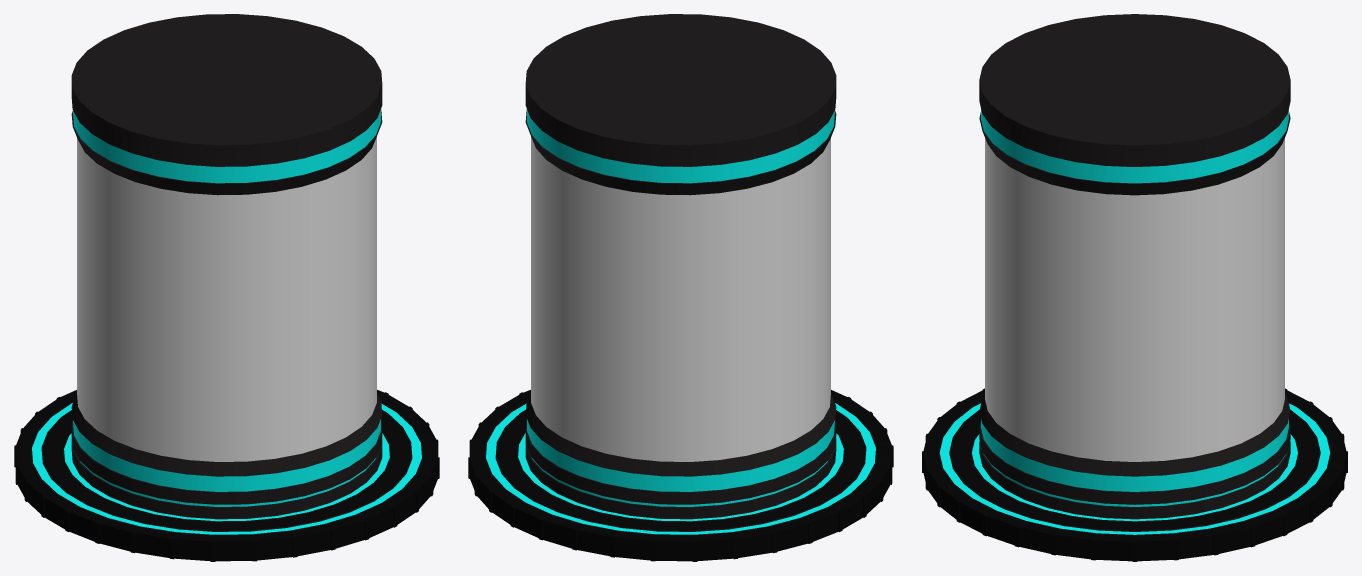
The model's file is Billboard_WithAnimation.fbx.
3 renders of one model, left to right at view 1: azimuth 30°, elevation 25°; view 2: azimuth 150°, elevation 25°; view 3: azimuth 270°, elevation 25°, orthographic.
Parts seen in each view (by area): view 1: Base, Billboard; view 2: Base, Billboard; view 3: Base, Billboard.
Boxes of the visible parts, x1=… form: Base: x1=14, y1=14, x2=439, y2=561; Billboard: x1=77, y1=137, x2=376, y2=461; Base: x1=468, y1=14, x2=893, y2=561; Billboard: x1=531, y1=137, x2=830, y2=461; Base: x1=922, y1=14, x2=1347, y2=561; Billboard: x1=985, y1=138, x2=1284, y2=461.
Bounding box in the file's own units: 294 × 299 × 294.
